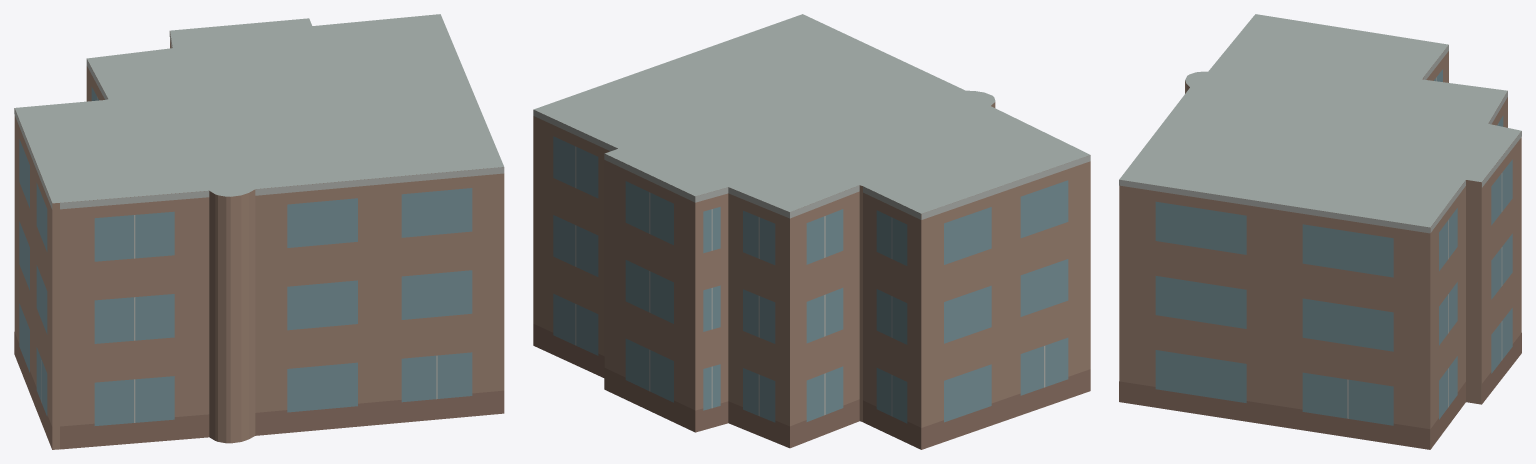
Rendered from survey-upis-33013289.glb.
3 renders of one model, left to right at view 1: azimuth 30°, elevation 25°; view 2: azimuth 150°, elevation 25°; view 3: azimuth 270°, elevation 25°, orthographic. The views are drawn at different scales.
Visible parts, largest first — view 1: survey-upis-33013289.tmp; view 2: survey-upis-33013289.tmp; view 3: survey-upis-33013289.tmp.
Boxes of the visible parts, bbox=[...] form: survey-upis-33013289.tmp: bbox=[14, 14, 504, 449]; survey-upis-33013289.tmp: bbox=[533, 14, 1090, 449]; survey-upis-33013289.tmp: bbox=[1119, 14, 1521, 449].
Bounding box in the file's own units: 18.85 × 9.15 × 15.03.
